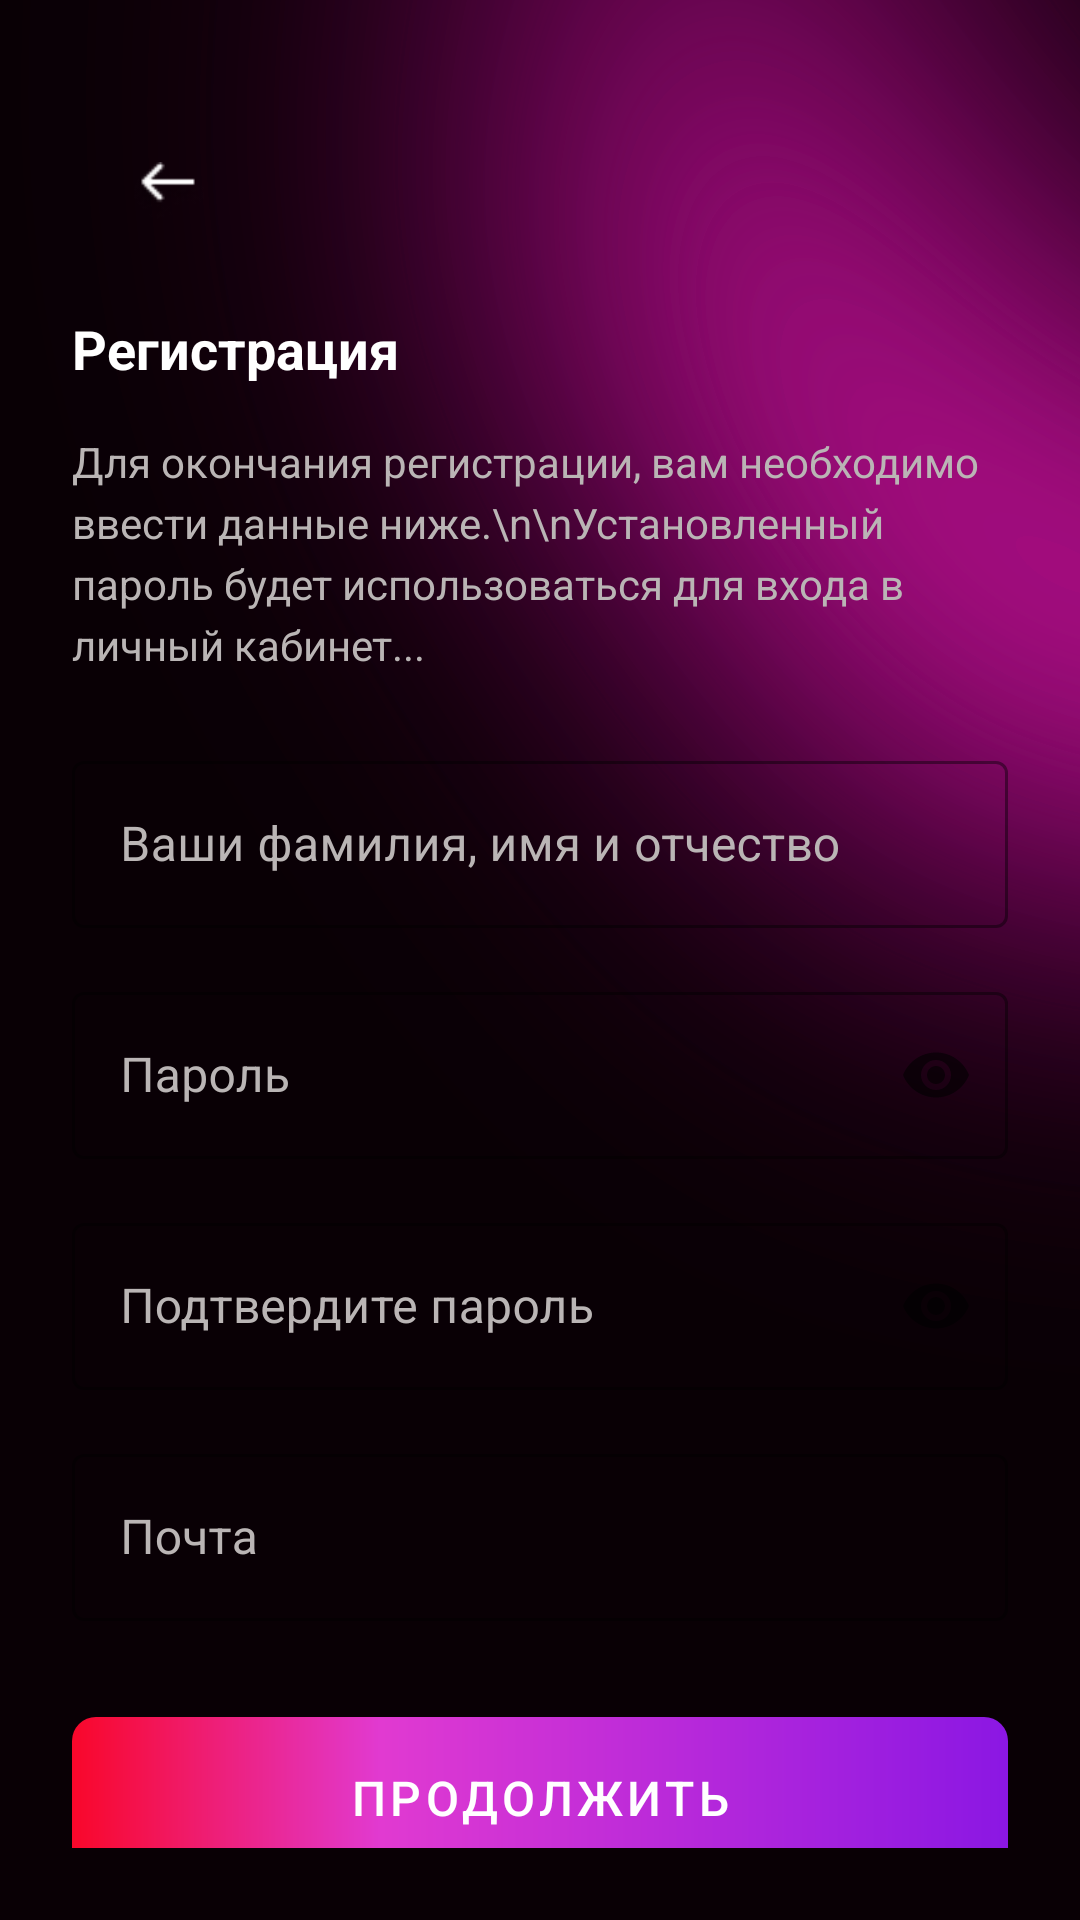

Point at icon controls on the screen. Image size 1080 x 1920, points as (x,y).
Назад: (168,182)
